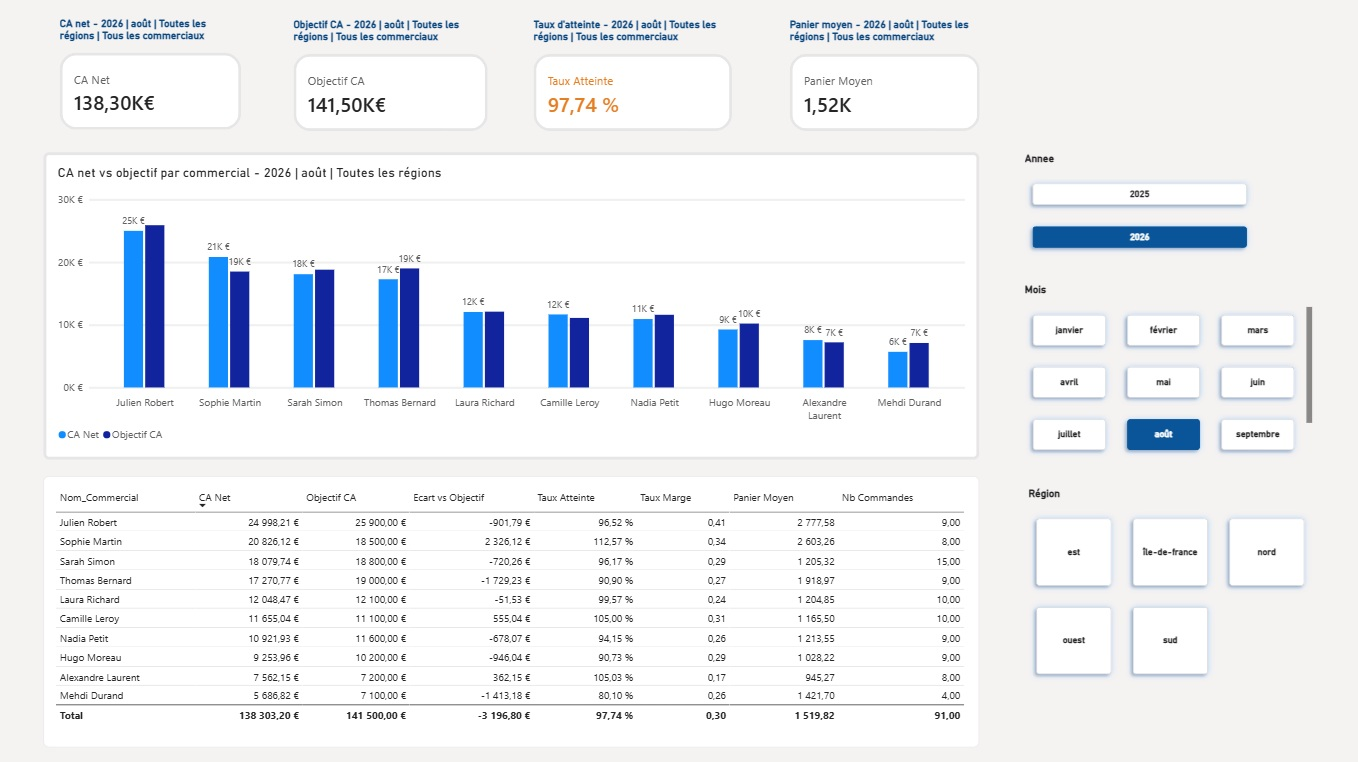

What the dashboard file says about the page in this screenshot:
{"tool":"powerbi","page":{"name":"Performance commerciale","canvas":[1920,1080],"ordinal":1},"visuals":[{"type":"cardVisual","fields":{"Data":["Mesures.CA Net"]},"box":[89.2,30,254,158],"z":0},{"type":"cardVisual","fields":{"Data":["Mesures.Objectif CA"]},"box":[417,31.8,272,158],"z":1000},{"type":"cardVisual","fields":{"Data":["Mesures.Taux Atteinte"]},"box":[753.5,31.8,278,158],"z":2000},{"type":"tableEx","fields":{"Values":["DimCommerciaux.Nom_Commercial","Mesures.CA Net","Mesures.Objectif CA","Mesures.Ecart Objectif","Mesures.Taux Atteinte","Mesures.Taux Marge","Mesures.Panier Moyen","Mesures.Nb Commandes"]},"box":[67.2,672,1310,380],"z":3000},{"type":"clusteredColumnChart","fields":{"Category":["DimCommerciaux.Nom_Commercial"],"Y":["Mesures.CA Net","Mesures.Objectif CA"]},"box":[67.2,218,1310,430],"z":4000},{"type":"advancedSlicerVisual","title":"Région","fields":{"Values":["DimCommerciaux.Region"]},"box":[1445.2,688,398,274],"z":5000},{"type":"advancedSlicerVisual","fields":{"Values":["DimDate.Mois"]},"box":[1440.7,402.6,402.6,245.1],"z":6000},{"type":"advancedSlicerVisual","fields":{"Values":["DimDate.Annee"]},"box":[1441.2,218,322,146],"z":7000},{"type":"cardVisual","fields":{"Data":["Mesures.Panier Moyen"]},"box":[1110.8,31.7,266,158],"z":8000}]}

Visuals, with their boxes in screenshot pixels (x1, y1, x2, y2), scaled from the page's 1920x1080 canvas onto the 1358x762 screenshot:
cardVisual - Mesures.CA Net: 63/21/243/133
cardVisual - Mesures.Objectif CA: 295/22/487/134
cardVisual - Mesures.Taux Atteinte: 533/22/730/134
tableEx - DimCommerciaux.Nom_Commercial x Mesures.CA Net: 48/474/974/742
clusteredColumnChart - DimCommerciaux.Nom_Commercial x Mesures.CA Net: 48/154/974/457
"Région" advancedSlicerVisual: 1022/485/1304/679
advancedSlicerVisual - DimDate.Mois: 1019/284/1304/457
advancedSlicerVisual - DimDate.Annee: 1019/154/1247/257
cardVisual - Mesures.Panier Moyen: 786/22/974/134
